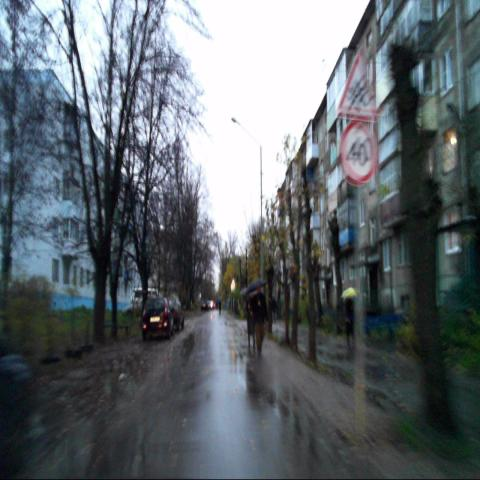1_23: (338, 52, 378, 122)
3_24: (339, 117, 378, 187)
